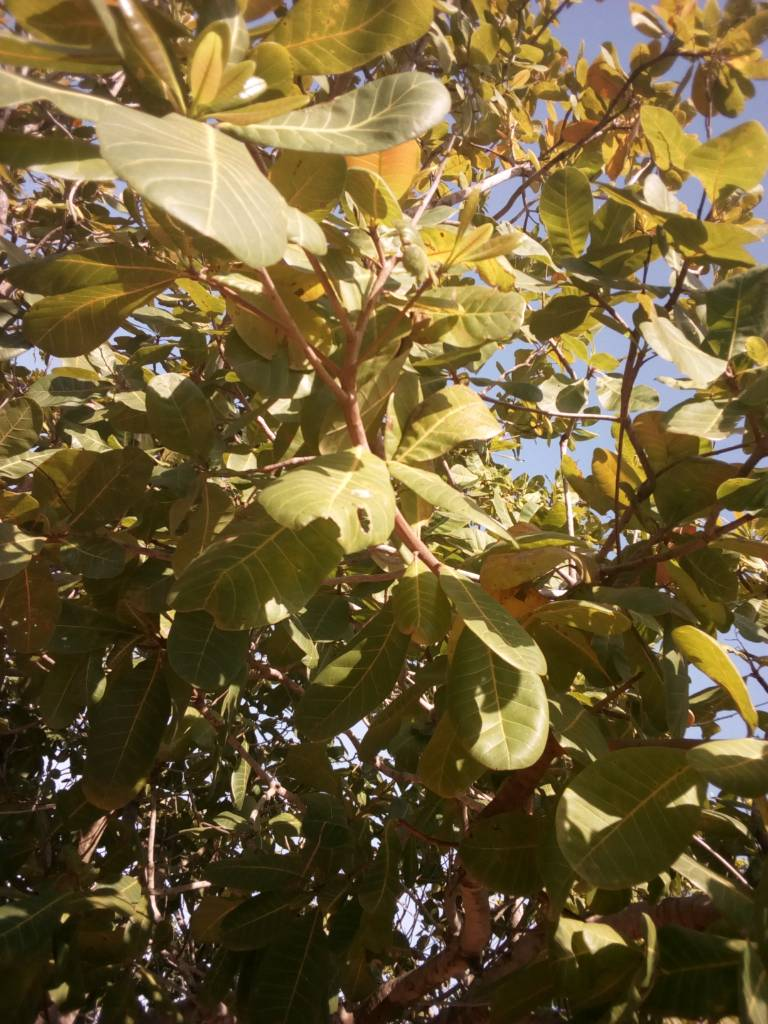Anoplonemis curvipes: (269, 457, 386, 553)
